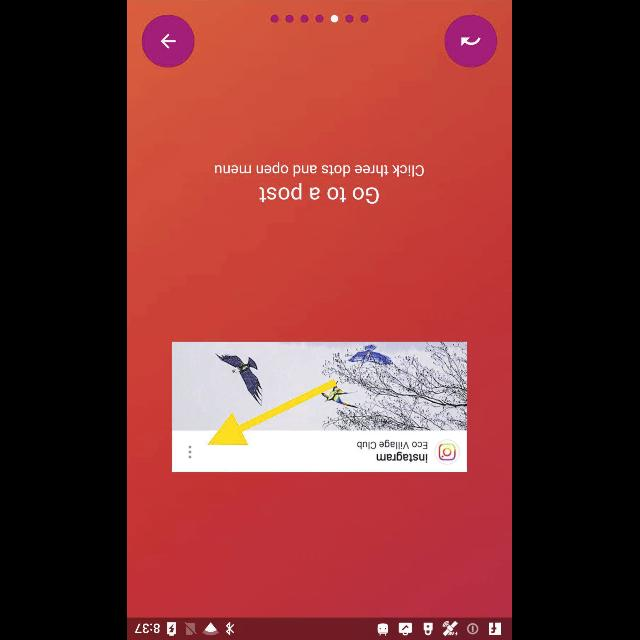button: (446, 14, 498, 68), (143, 15, 195, 67)
image: (172, 342, 468, 472)
pageindicator: (271, 15, 369, 23)
text: (216, 162, 424, 176), (260, 182, 380, 204)
uppertaskbar: (128, 617, 512, 639)
